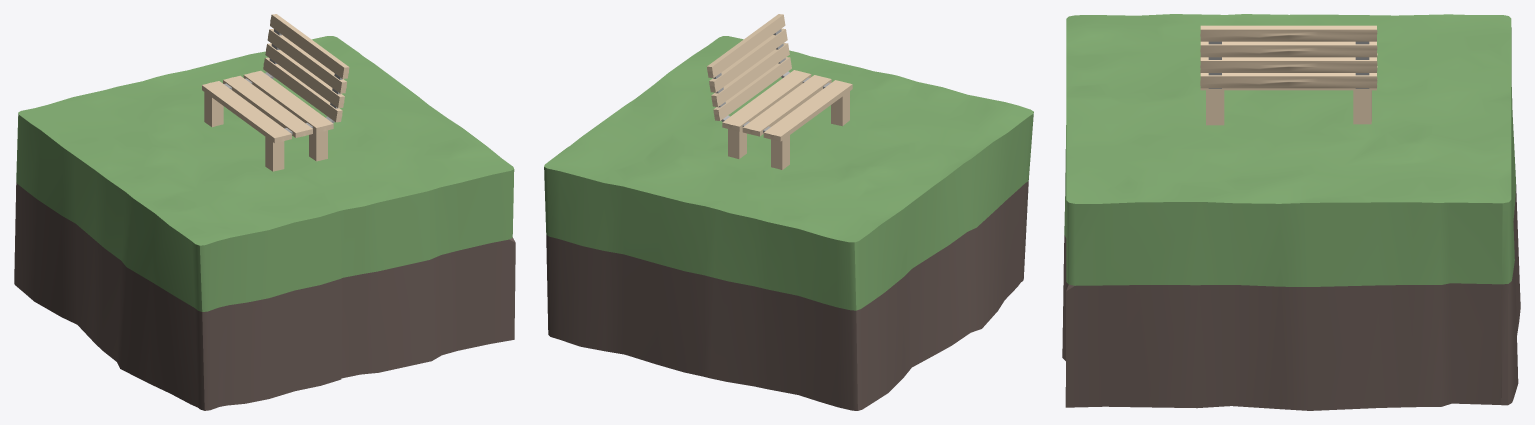
The model's file is chair.fbx.
3 views of the same model, side by side, from view 1: azimuth 30°, elevation 25°; view 2: azimuth 150°, elevation 25°; view 3: azimuth 270°, elevation 25° (orthographic). The views are drawn at different scales.
Parts seen in each view (by area): view 1: ground, pCube3 (×2), pCube1 (×2), pCube2 (×2), pCube4, pCube6; view 2: ground, pCube3 (×2), pCube1 (×2), pCube2 (×2), pCube4, pCube6; view 3: ground, pCube2 (×2), pCube6, pCube3, pCube1, pCube4.
Part boxes in pixels (x1,y1,x2,y2): ground: (14,36,515,410); pCube3 (×2): (202,57,342,143); pCube1 (×2): (223,43,344,137); pCube2 (×2): (243,28,346,132); pCube4: (204,92,327,171); pCube6: (270,14,349,78); ground: (544,36,1033,410); pCube3 (×2): (713,57,852,141); pCube1 (×2): (711,43,831,136); pCube2 (×2): (709,28,811,131); pCube4: (728,91,849,169); pCube6: (707,14,785,77); ground: (1062,14,1520,410); pCube2 (×2): (1200,41,1377,90); pCube6: (1200,25,1377,41); pCube3: (1200,73,1377,88); pCube1: (1200,57,1377,72); pCube4: (1206,90,1371,125).
Size of the model in its own units: 20.78 by 15.4 by 20.34.
